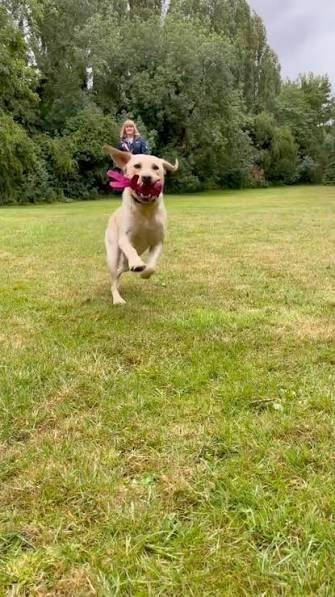adult_dog: (103, 145, 179, 306)
non-dog: (105, 119, 154, 210)
